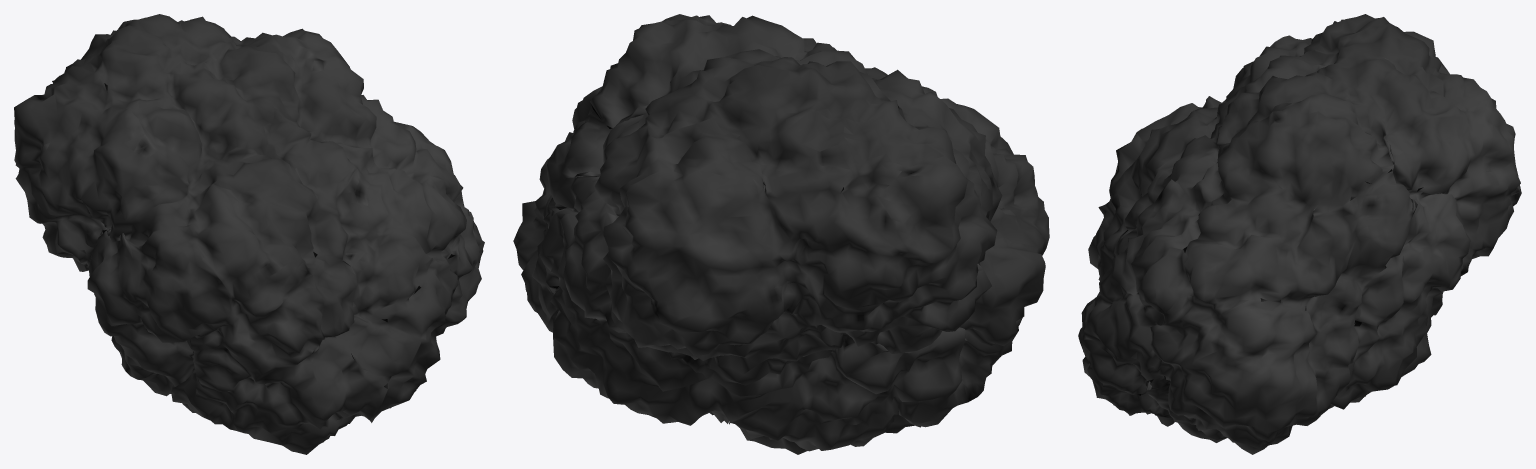
File: lava_2.glb
3 views of the same model, side by side, from view 1: azimuth 30°, elevation 25°; view 2: azimuth 150°, elevation 25°; view 3: azimuth 270°, elevation 25° (orthographic). The views are drawn at different scales.
Visible parts, largest first — view 1: LavaRock_web; view 2: LavaRock_web; view 3: LavaRock_web.
Boxes of the visible parts, box(x1,y1,x2,y2) form: LavaRock_web: box(14, 14, 484, 454); LavaRock_web: box(513, 14, 1049, 454); LavaRock_web: box(1078, 14, 1521, 454).
Size of the model in its own units: 0.3385 by 0.2908 by 0.3217.
1 material, 1 textured.
